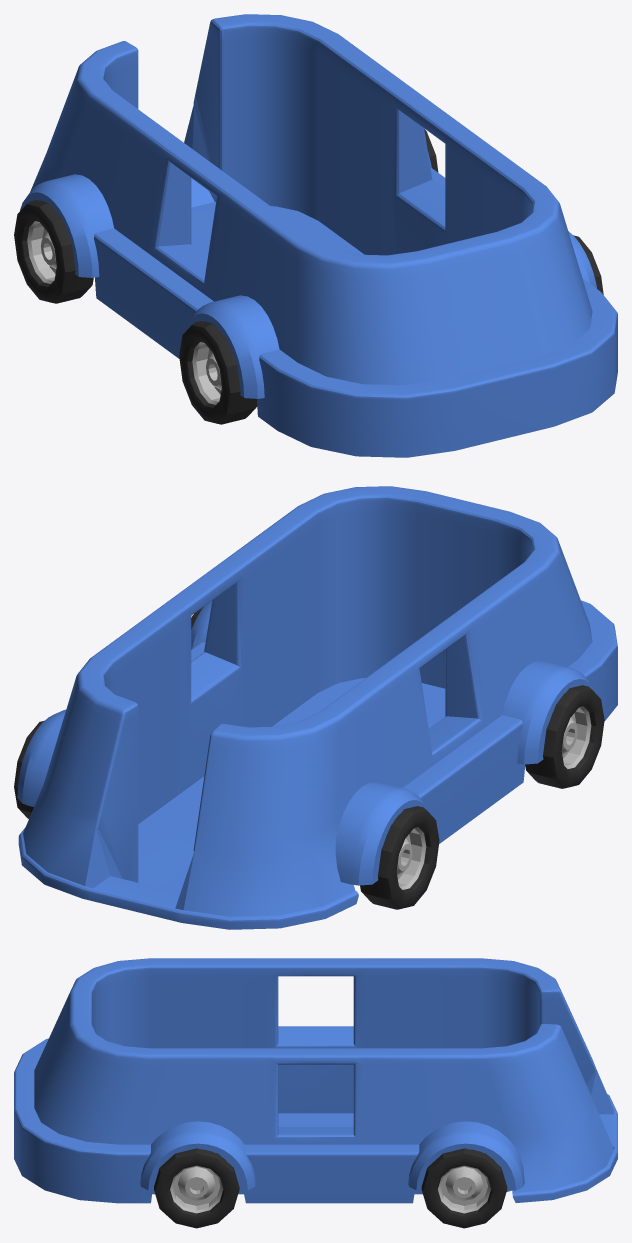
File: Car_12.fbx
3 renders of one model, top to bottom at view 1: azimuth 30°, elevation 25°; view 2: azimuth 150°, elevation 25°; view 3: azimuth 270°, elevation 25°, orthographic. The views are drawn at different scales.
Parts seen in each view (by area): view 1: Sm_Car_12; view 2: Sm_Car_12; view 3: Sm_Car_12.
Boxes of the visible parts, x1,y1,x2,y2 form: Sm_Car_12: (14, 14, 617, 457); Sm_Car_12: (14, 486, 617, 929); Sm_Car_12: (14, 958, 617, 1228).
Bounding box in the file's own units: 448 × 209 × 766.
